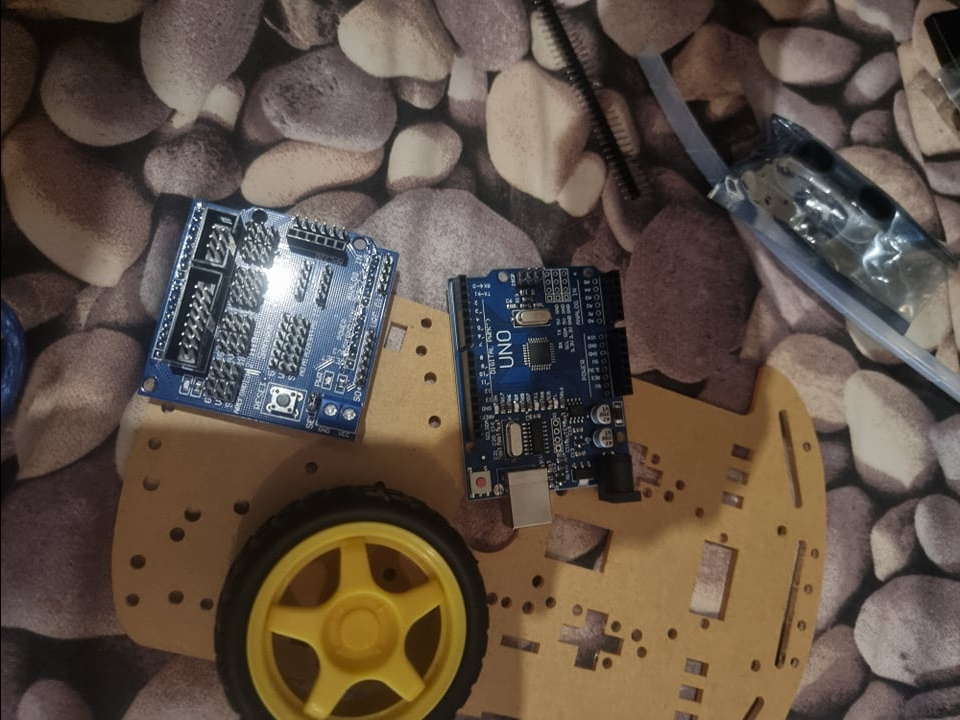5V EXPANSION: (135, 197, 398, 442)
UNO R3: (443, 267, 642, 529)
